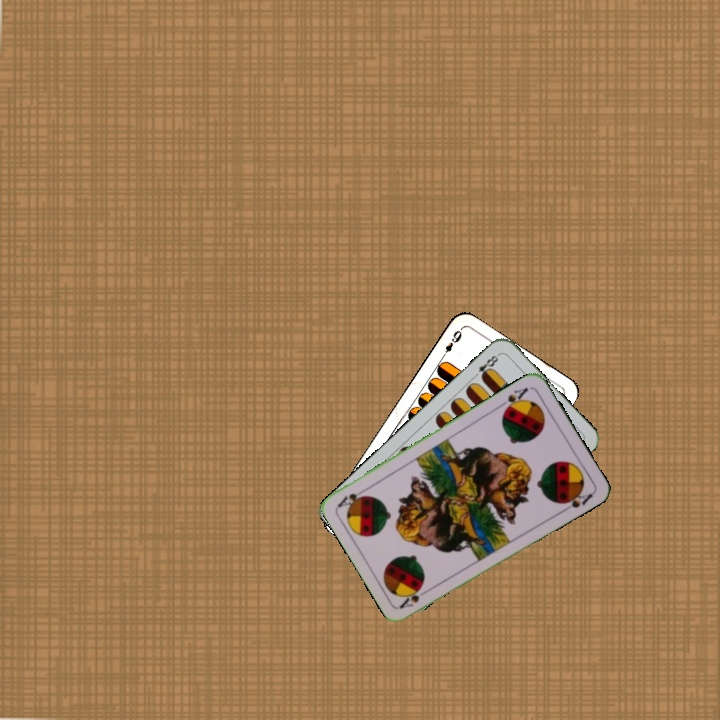E8: (469, 350, 502, 382)
E9: (437, 326, 465, 361)
SA: (396, 583, 433, 611), (499, 383, 531, 415)
